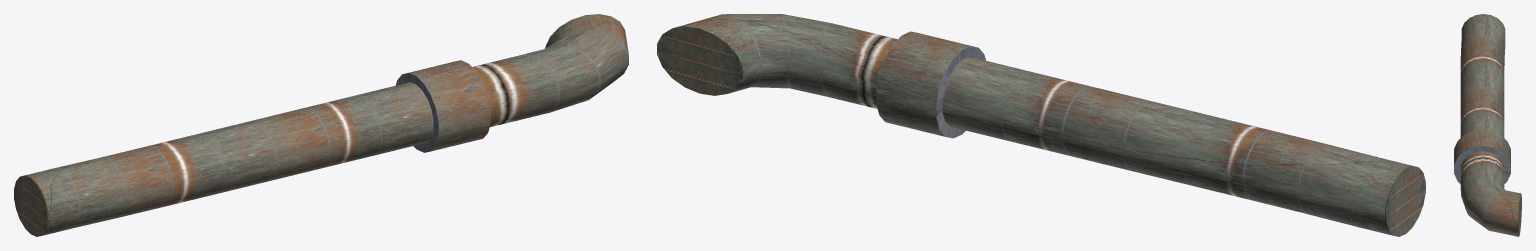
File: cir2.FBX
The picture shows the model from 3 angles, left to right: view 1: azimuth 30°, elevation 25°; view 2: azimuth 150°, elevation 25°; view 3: azimuth 270°, elevation 25°; orthographic projection. The views are drawn at different scales.
Visible parts, largest first — view 1: Cylinder001; view 2: Cylinder001; view 3: Cylinder001.
Boxes of the visible parts, box(x1,y1,x2,y2) form: Cylinder001: box(14, 14, 628, 236); Cylinder001: box(657, 14, 1425, 236); Cylinder001: box(1454, 14, 1521, 236).
Bounding box in the file's own units: 214 × 24.13 × 31.52.
